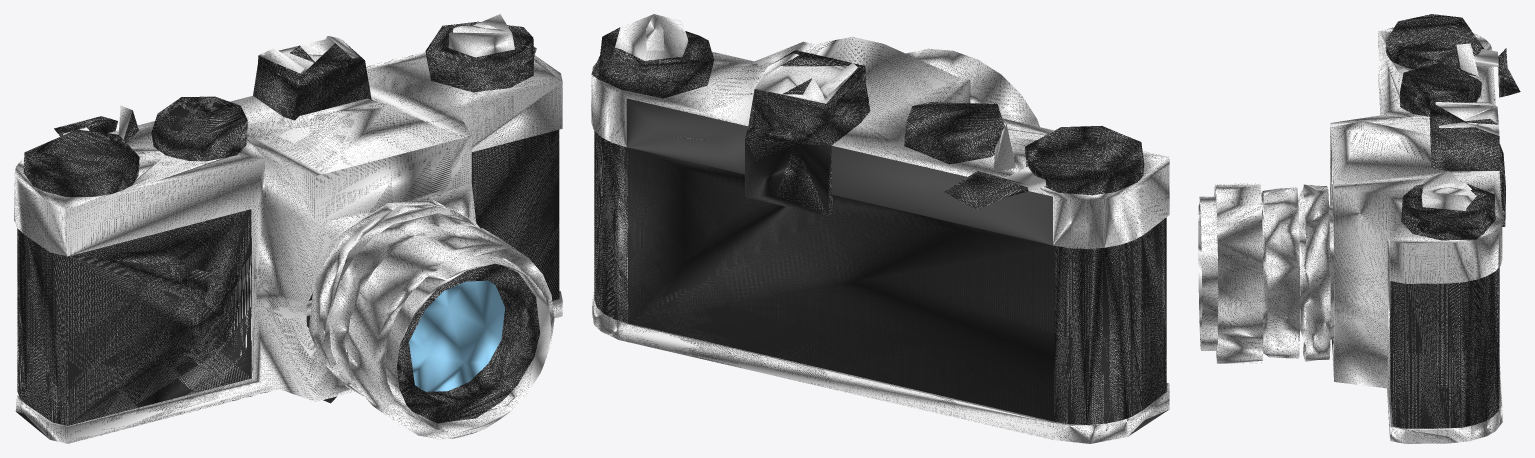
File: model_align.obj
3 views of the same model, side by side, from view 1: azimuth 30°, elevation 25°; view 2: azimuth 150°, elevation 25°; view 3: azimuth 270°, elevation 25° (orthographic). The views are drawn at different scales.
Size of the model in its own units: 0.156 by 0.0815 by 0.0981.
